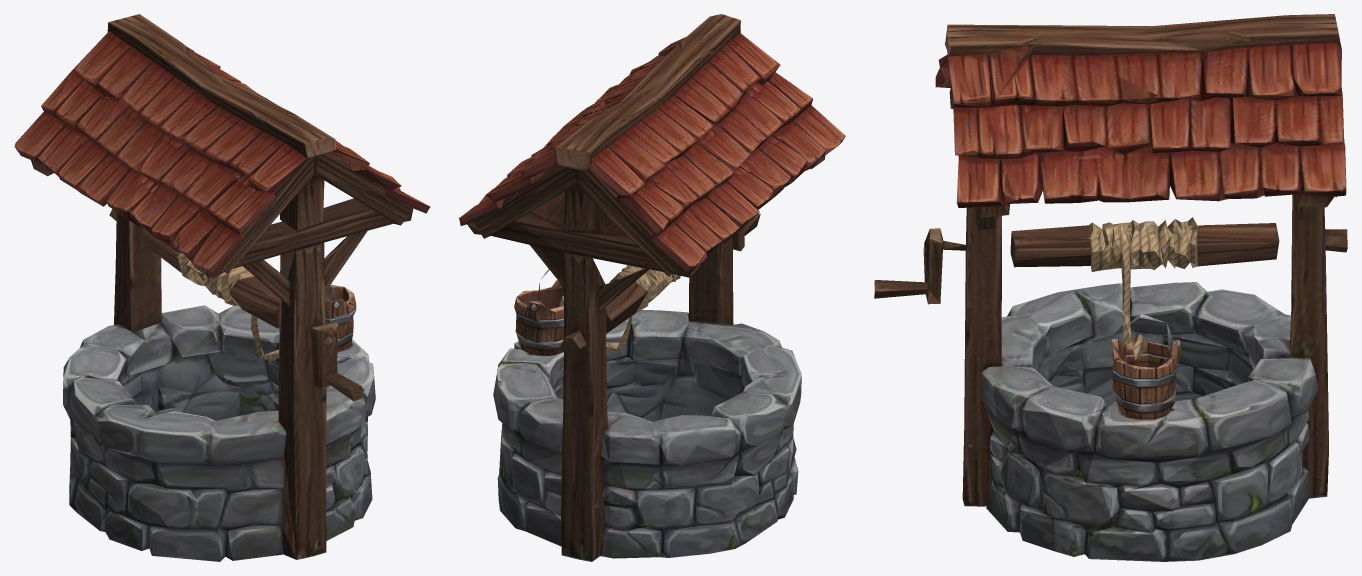
The model's file is well_3d.glb.
3 views of the same model, side by side, from view 1: azimuth 30°, elevation 25°; view 2: azimuth 150°, elevation 25°; view 3: azimuth 270°, elevation 25° (orthographic). The views are drawn at different scales.
Parts seen in each view (by area): view 1: Mesh_0; view 2: Mesh_0; view 3: Mesh_0.
Boxes of the visible parts, x1,y1,x2,y2 form: Mesh_0: (14,14,430,561); Mesh_0: (459,14,845,561); Mesh_0: (874,14,1347,561).
Bounding box in the file's own units: 0.7285 × 1.09 × 1.
Materials: 1 (1 with a texture image).
